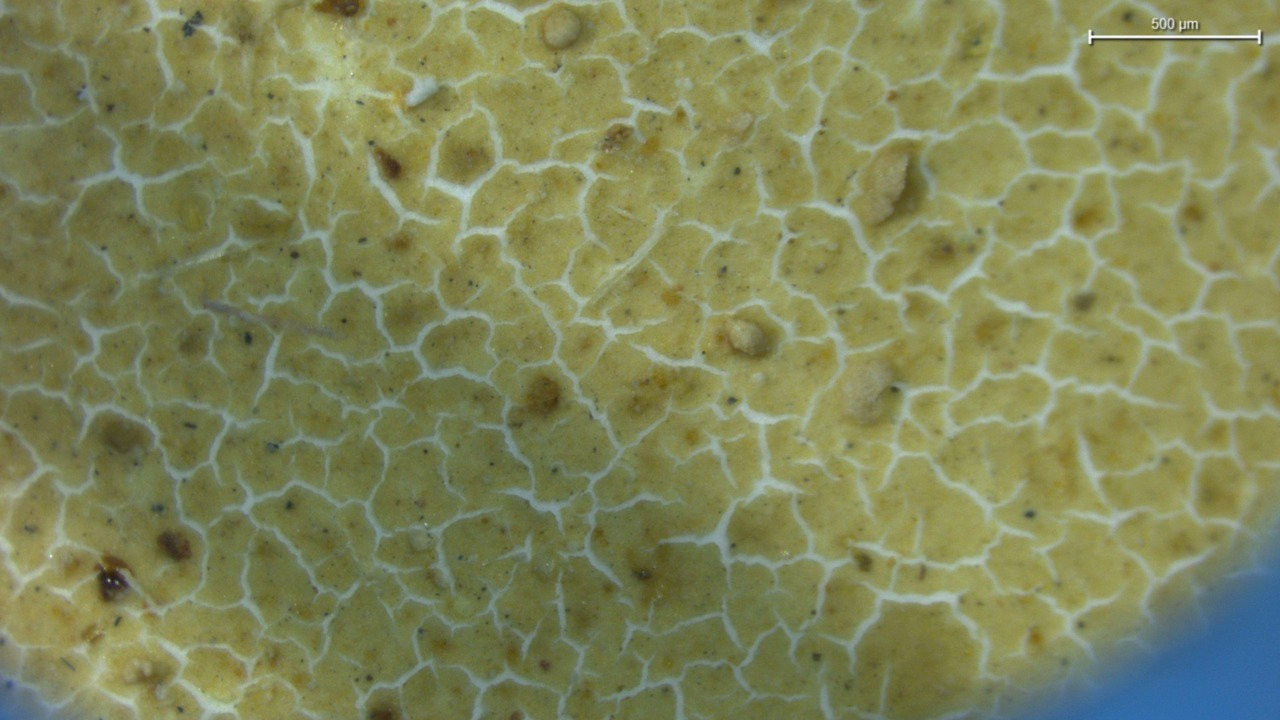microplastic_fragment: (848, 149, 909, 224), (727, 319, 767, 355)
